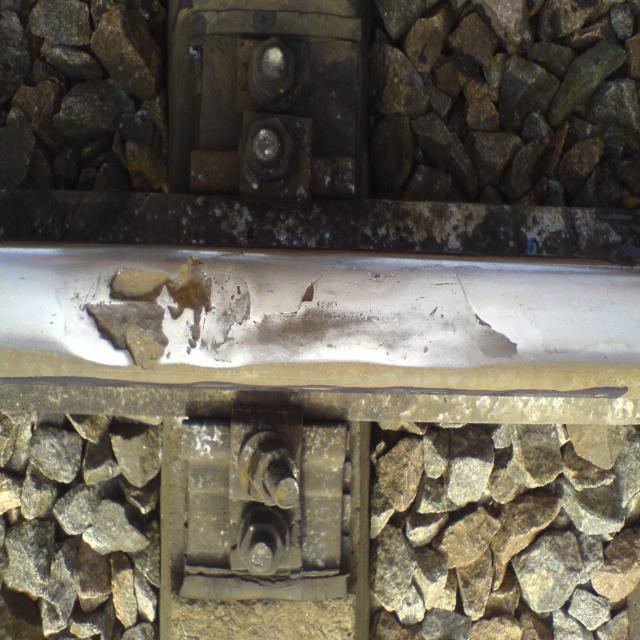broken_rail_medium: (82, 255, 256, 373), (450, 269, 520, 361), (253, 280, 319, 325)
